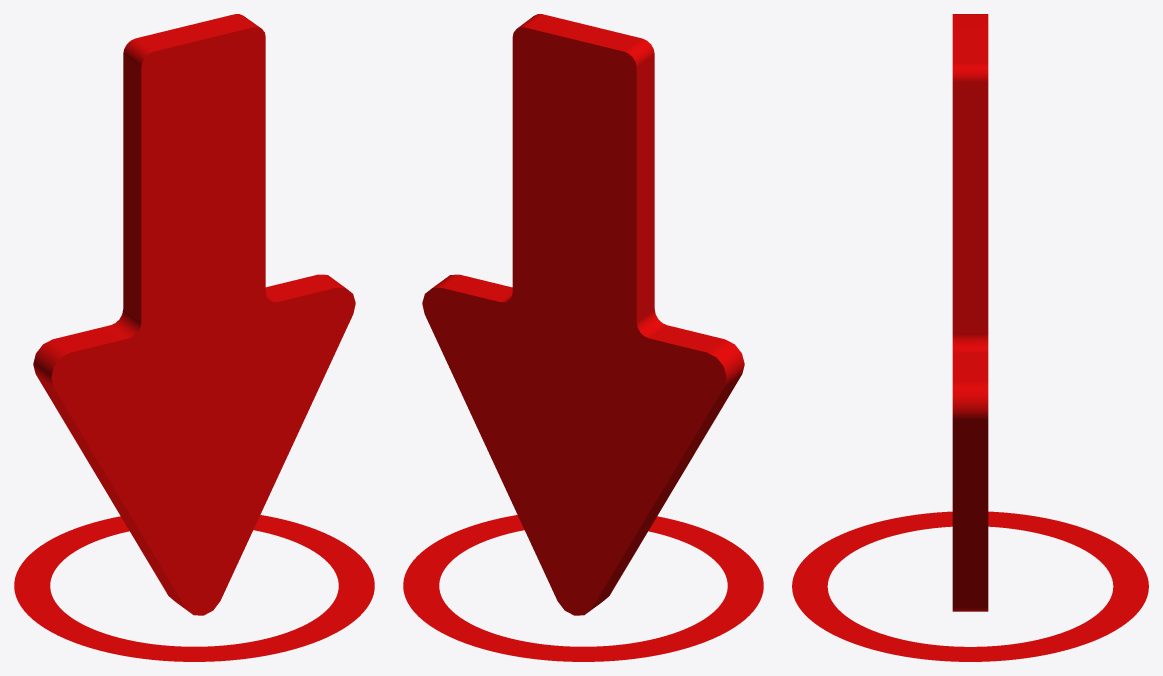
The model's file is arrow.gltf.
3 views of the same model, side by side, from view 1: azimuth 30°, elevation 25°; view 2: azimuth 150°, elevation 25°; view 3: azimuth 270°, elevation 25° (orthographic).
Parts seen in each view (by area): view 1: pCube1, Ring; view 2: pCube1, Ring; view 3: pCube1, Ring.
Boxes of the visible parts, bbox=[...] form: pCube1: bbox=[33, 14, 355, 615]; Ring: bbox=[14, 515, 374, 661]; pCube1: bbox=[422, 14, 744, 615]; Ring: bbox=[403, 515, 763, 661]; pCube1: bbox=[952, 14, 988, 611]; Ring: bbox=[792, 511, 1148, 661].
Bounding box in the file's own units: 1 × 1.76 × 1.
